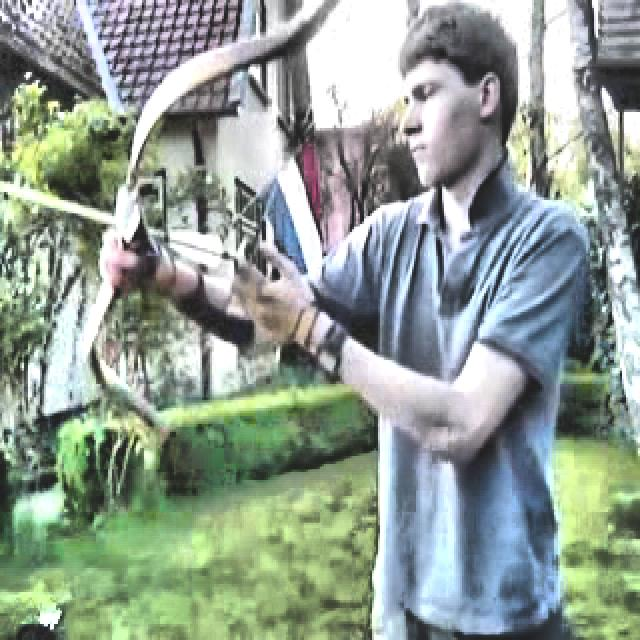P: (103, 4, 589, 630)
